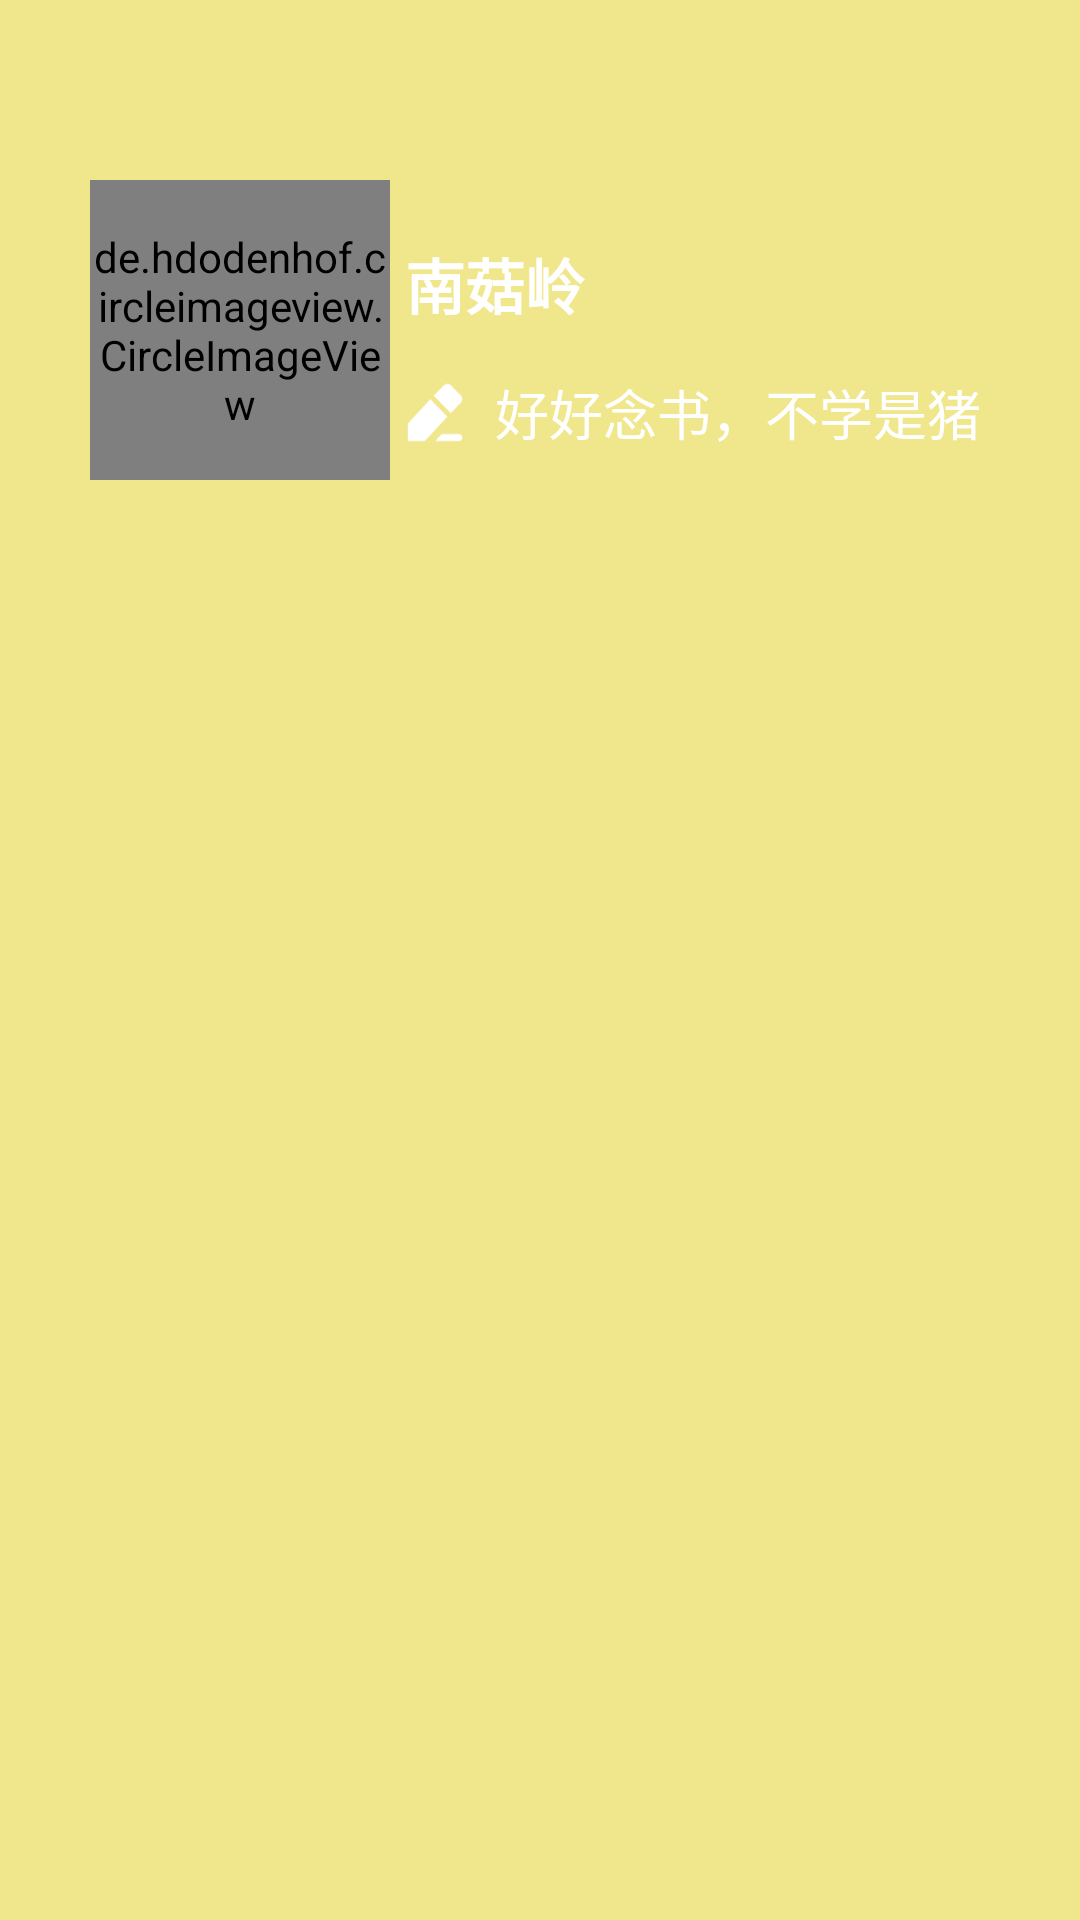

Icon bounding boxes for this 1080×1920 phone screenshot, format [x1, y1, x2, y2]:
autograph: [408, 383, 463, 442]
